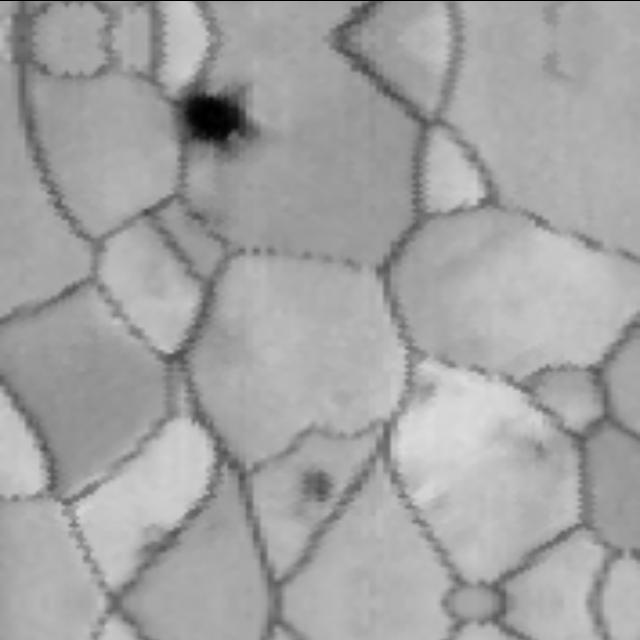good_void: (473, 404, 576, 489), (172, 67, 260, 163), (127, 513, 189, 581), (286, 458, 345, 518), (395, 367, 447, 417)
